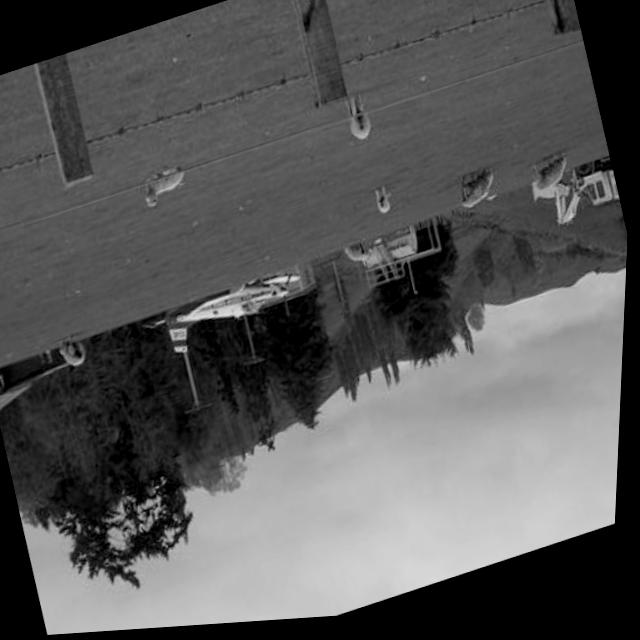aeroplane: (142, 272, 302, 365)
